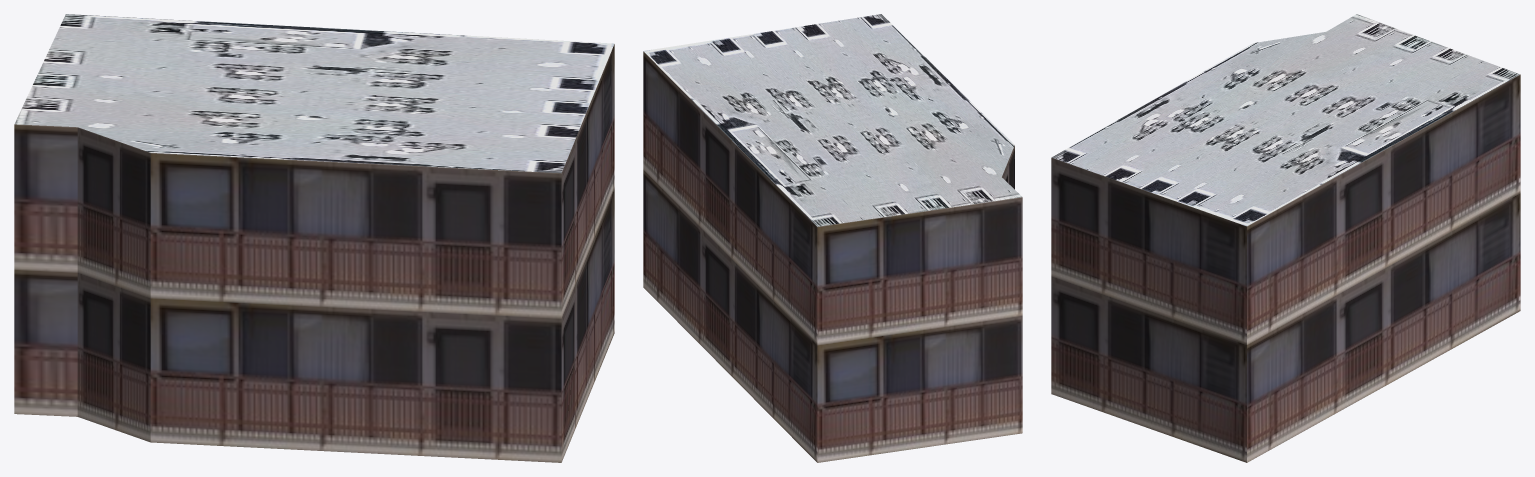
Rendered from ResTex__2451.fbx.
The picture shows the model from 3 angles, left to right: view 1: azimuth 30°, elevation 25°; view 2: azimuth 150°, elevation 25°; view 3: azimuth 270°, elevation 25°; orthographic projection. The views are drawn at different scales.
Visible parts, largest first — view 1: CityEngineMaterial_6_m, CityEngineMaterial_m; view 2: CityEngineMaterial_6_m, CityEngineMaterial_m; view 3: CityEngineMaterial_6_m, CityEngineMaterial_m.
Boxes of the visible parts, box(x1,y1,x2,y2) form: CityEngineMaterial_6_m: box(14, 44, 614, 462); CityEngineMaterial_m: box(14, 14, 614, 173); CityEngineMaterial_6_m: box(643, 51, 1022, 462); CityEngineMaterial_m: box(643, 14, 1022, 226); CityEngineMaterial_6_m: box(1051, 74, 1520, 462); CityEngineMaterial_m: box(1052, 14, 1519, 226).
Bounding box in the file's own units: 11.55 × 6 × 10.78.
2 materials, 2 textured.
